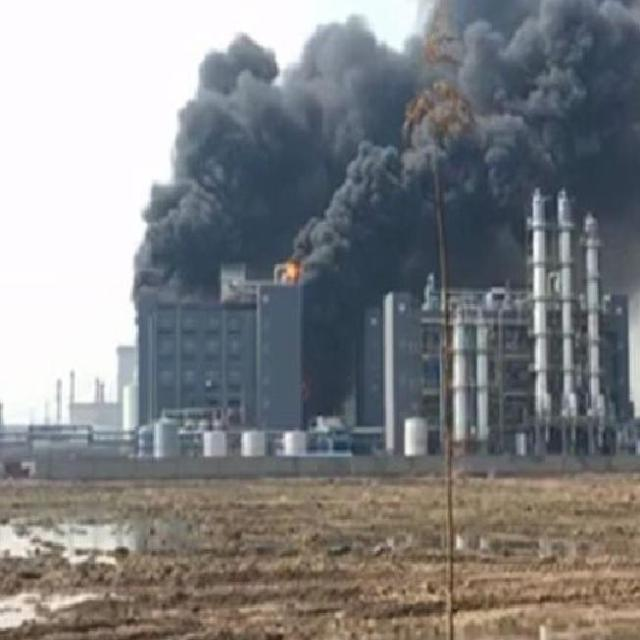Fire: (284, 262, 297, 278)
Smoke: (126, 2, 640, 324)
